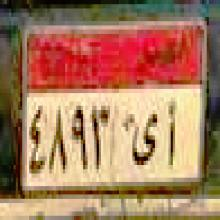3: (89, 99, 111, 173)
4: (25, 95, 46, 180)
8: (47, 102, 68, 178)
9: (68, 97, 88, 176)
alif: (163, 98, 182, 171)
yaa: (131, 112, 159, 169)
